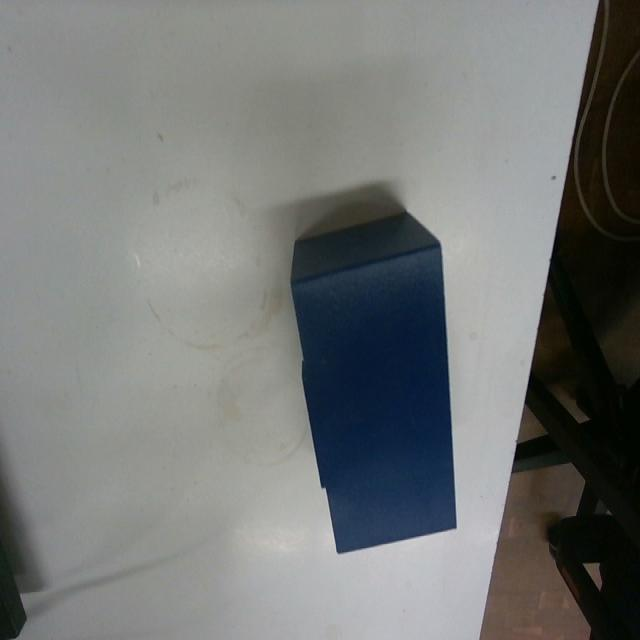Blue Cuboid: (287, 206, 459, 554)
